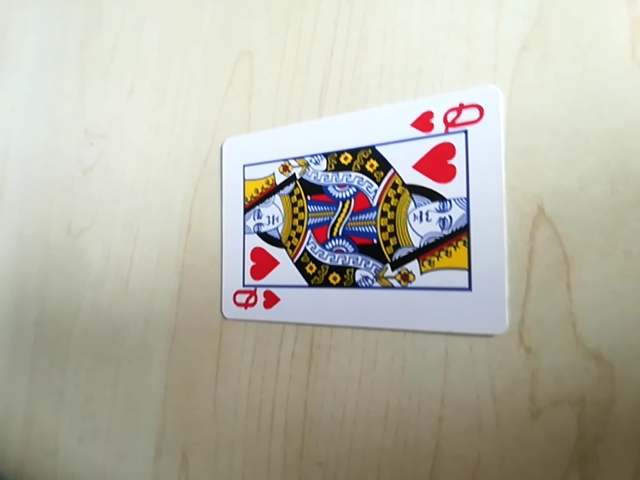hx q: (410, 96, 490, 139), (226, 286, 282, 317)
